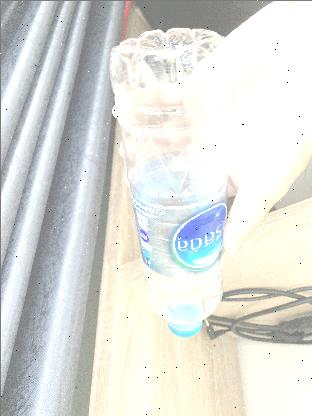Plastic Bottle: (104, 24, 236, 338)
